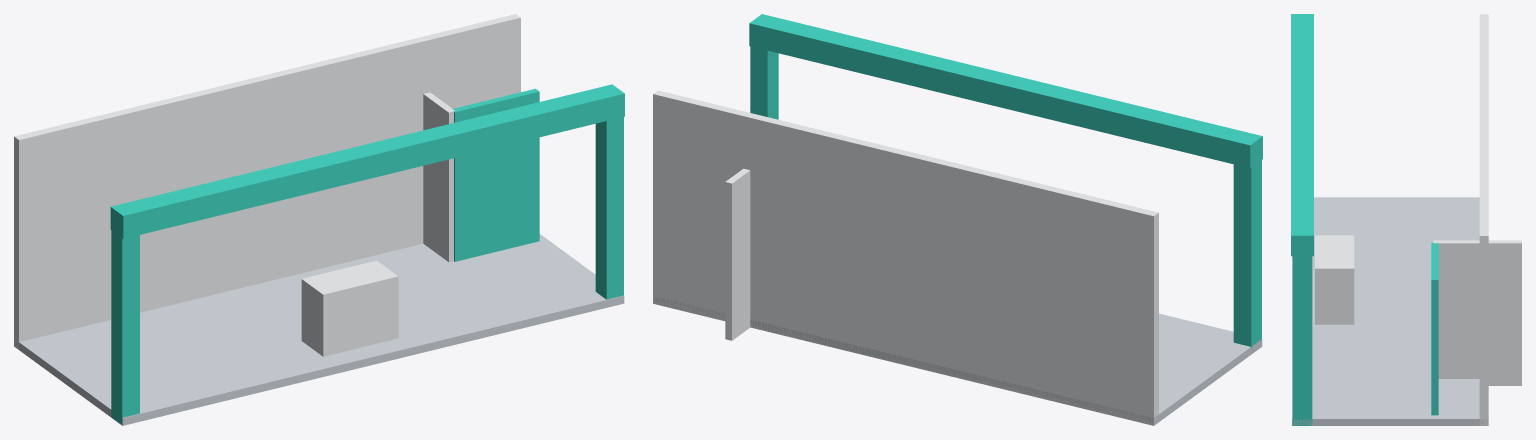
3 views of the same model, side by side, from view 1: azimuth 30°, elevation 25°; view 2: azimuth 150°, elevation 25°; view 3: azimuth 270°, elevation 25° (orthographic). The views are drawn at different scales.
Visible parts, largest first — view 1: Exhibition Booth Concept; view 2: Exhibition Booth Concept; view 3: Exhibition Booth Concept.
Boxes of the visible parts, x1,y1,x2,y2 form: Exhibition Booth Concept: (14, 14, 624, 425); Exhibition Booth Concept: (653, 14, 1262, 425); Exhibition Booth Concept: (1291, 14, 1521, 425).
Size of the model in its own units: 8 by 3.2 by 3.52.
